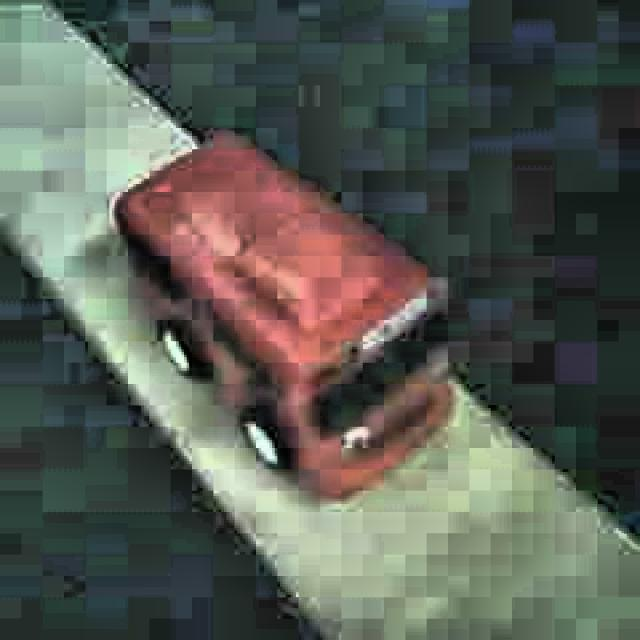bus: (111, 124, 453, 507)
